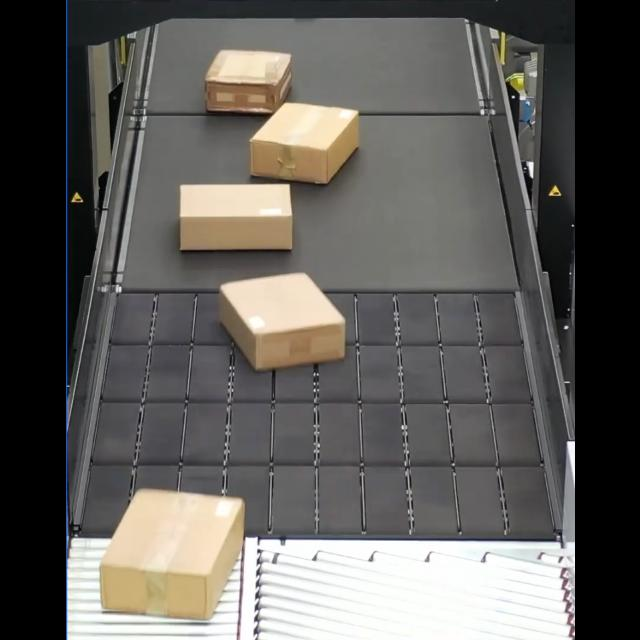box: (99, 488, 247, 616), (221, 273, 349, 371), (248, 100, 358, 184), (179, 182, 293, 252), (204, 48, 290, 110)
